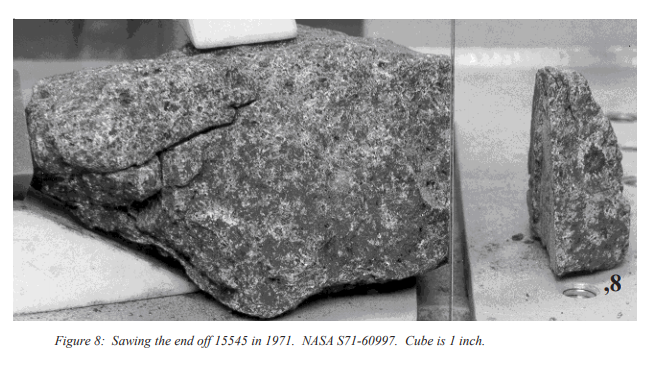Basalt: (68, 58, 454, 301), (196, 117, 378, 261), (526, 60, 631, 273)
